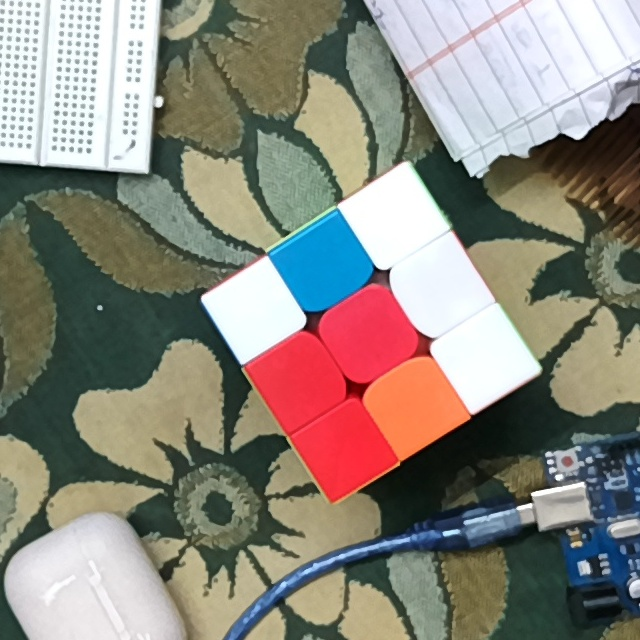tile: (384, 378, 446, 433), (339, 306, 400, 361), (367, 189, 425, 246), (275, 347, 327, 410), (223, 283, 283, 337), (318, 421, 373, 478), (297, 237, 353, 292), (413, 259, 466, 315), (457, 331, 514, 382)
